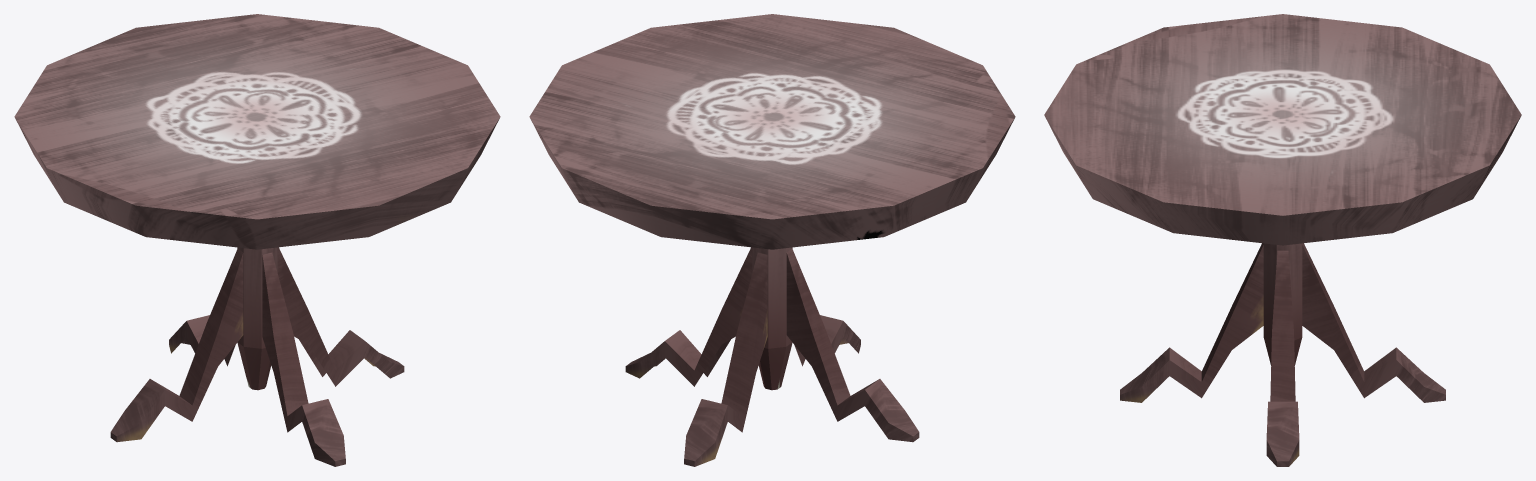
Rendered from RoundTable.fbx.
3 views of the same model, side by side, from view 1: azimuth 30°, elevation 25°; view 2: azimuth 150°, elevation 25°; view 3: azimuth 270°, elevation 25° (orthographic).
Parts seen in each view (by area): view 1: Pillar_Boxes_StudyTable_RoundTable; view 2: Pillar_Boxes_StudyTable_RoundTable; view 3: Pillar_Boxes_StudyTable_RoundTable.
Part boxes in pixels (box(x1,y1,x2,y2)): Pillar_Boxes_StudyTable_RoundTable: box(14, 14, 500, 466); Pillar_Boxes_StudyTable_RoundTable: box(529, 14, 1015, 466); Pillar_Boxes_StudyTable_RoundTable: box(1044, 14, 1521, 466).
Bounding box in the file's own units: 0.0204 × 0.0204 × 0.0133.
